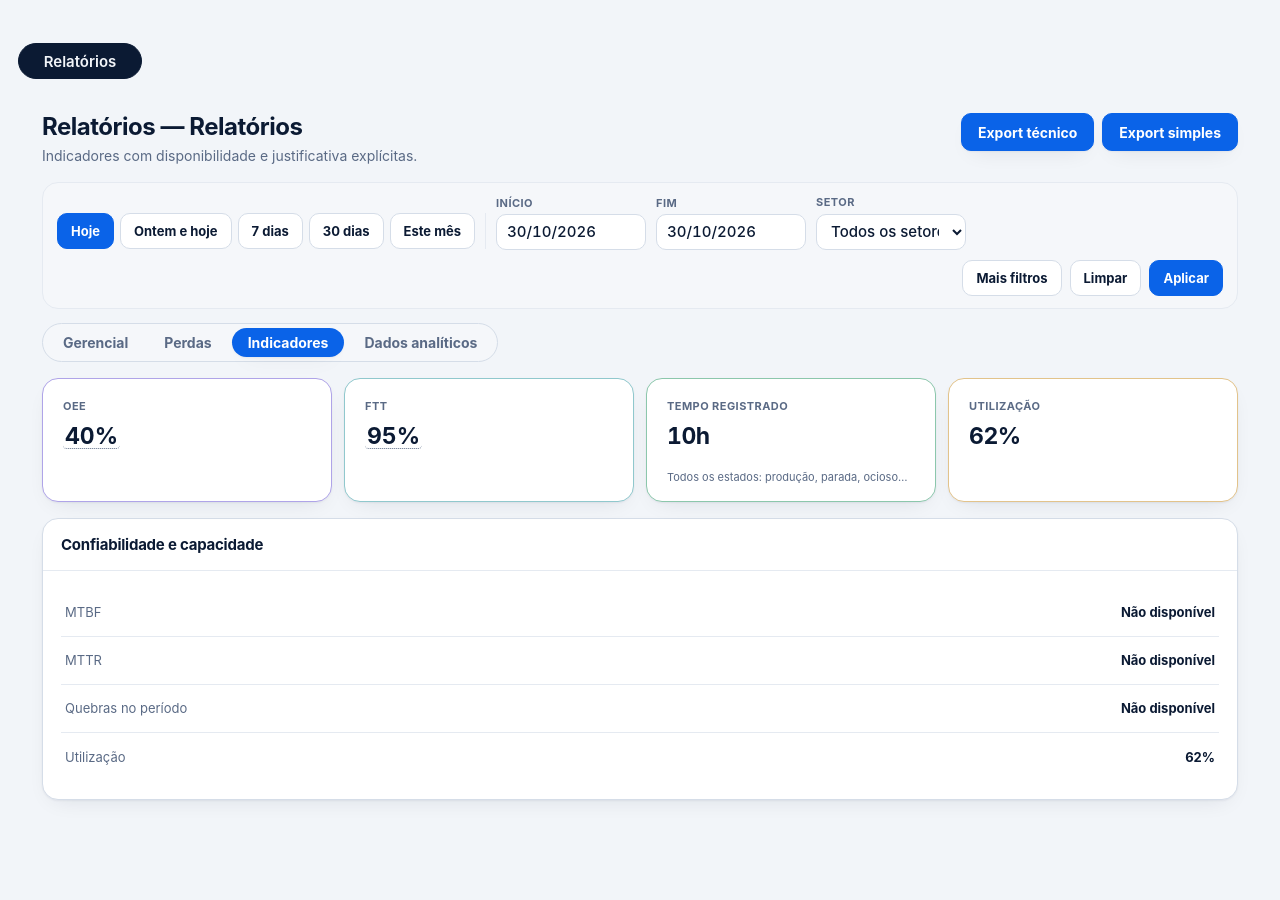
Relatórios: números clicáveis com a conta aberta › Indicadores: OEE e FTT abrem a explicação; Utilização e Tempo registrado ficam texto (fonte diferente)
The image size is (1280, 900).
Click the button named "Ver de onde vem este número: OEE 40" at (92, 437), box [63,425,120,449]
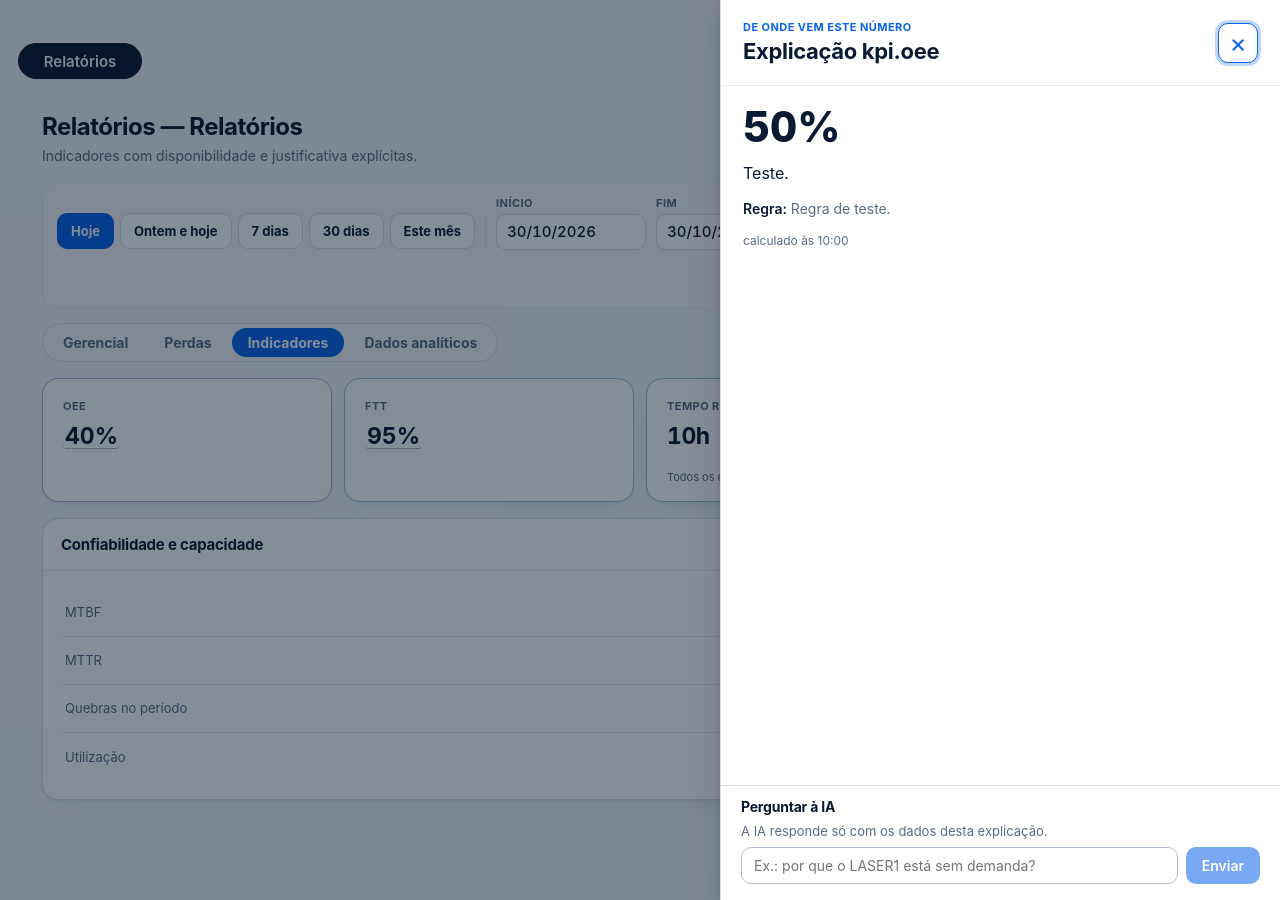
Result: the dialog is shown at [720,0,1279,899]
Click the button named "Fechar explicação" at (1238, 42), box [1218,22,1258,62]
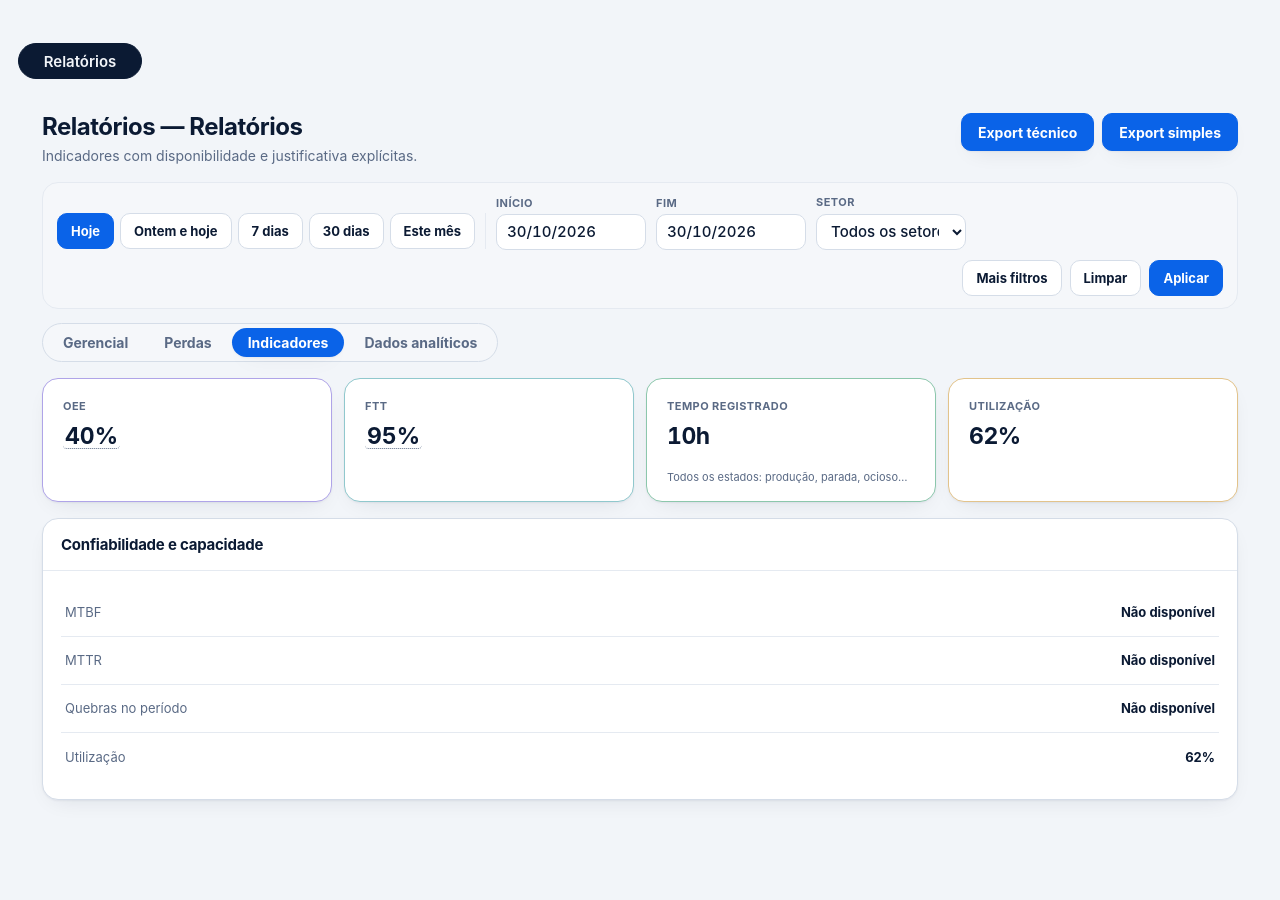
Result: the dialog is gone
Click the button named "Ver de onde vem este número: FTT 95" at (394, 437), box [365,425,422,449]
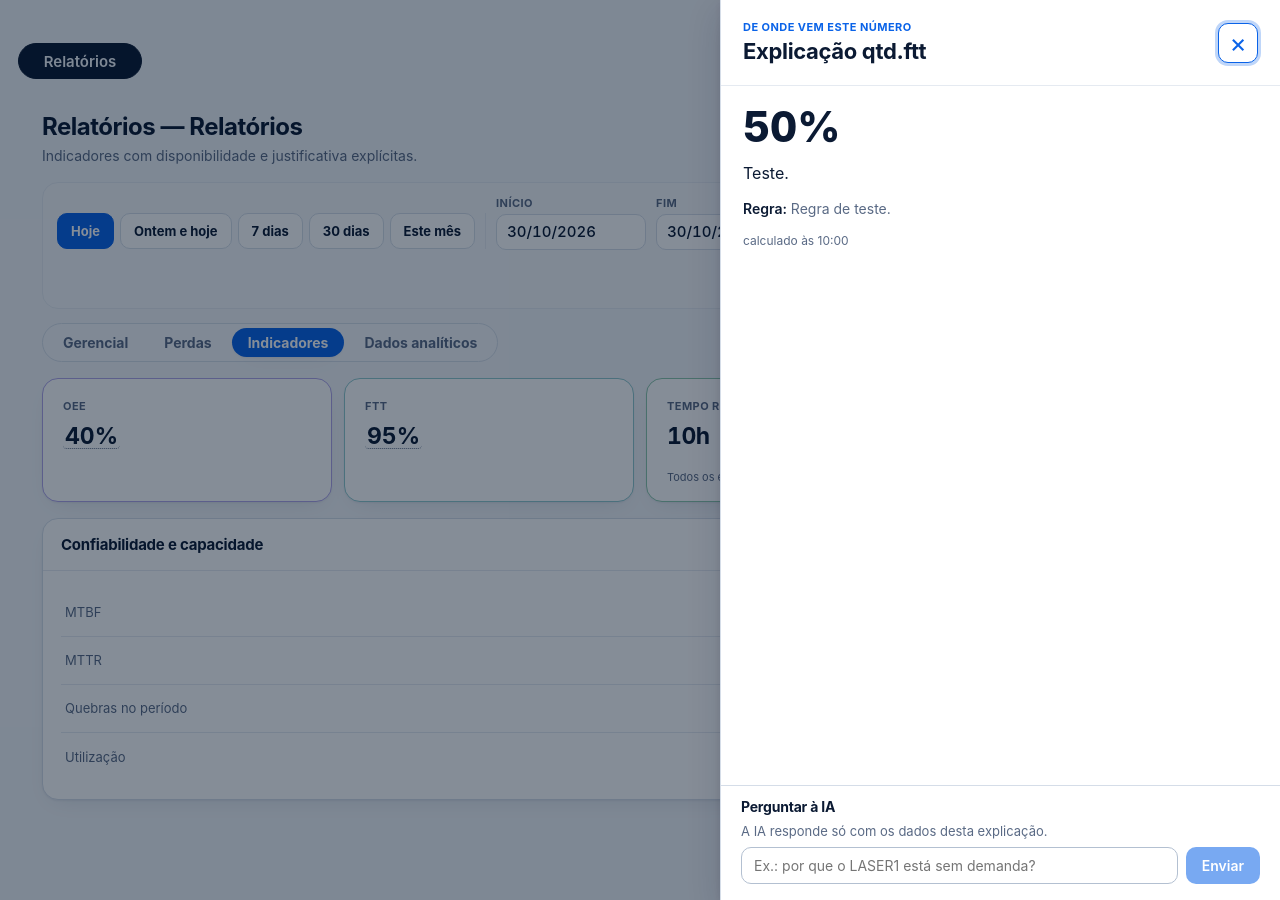
Result: the dialog is shown at [720,0,1279,899]
Click the button named "Fechar explicação" at (1238, 42), box [1218,22,1258,62]
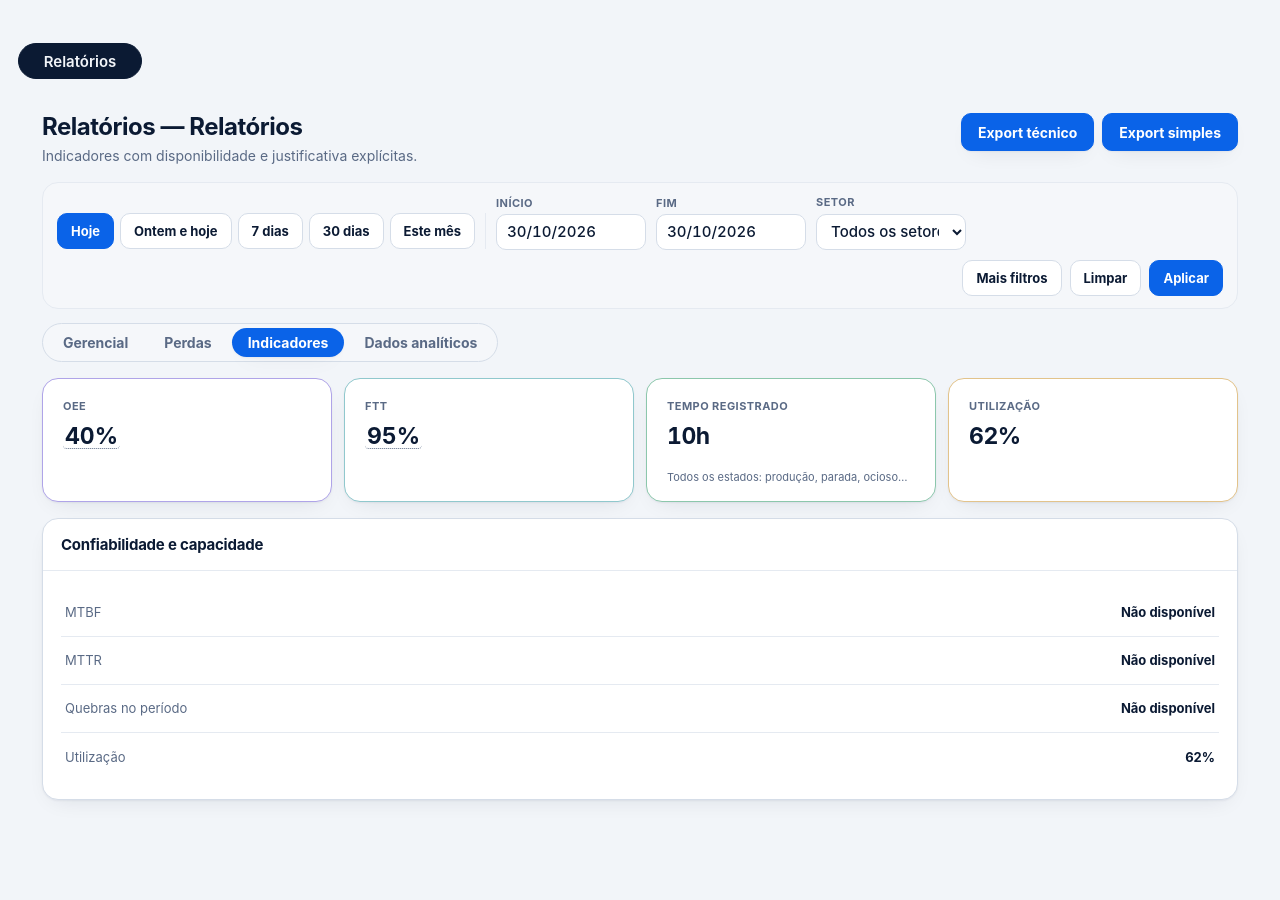
Result: the dialog is gone
